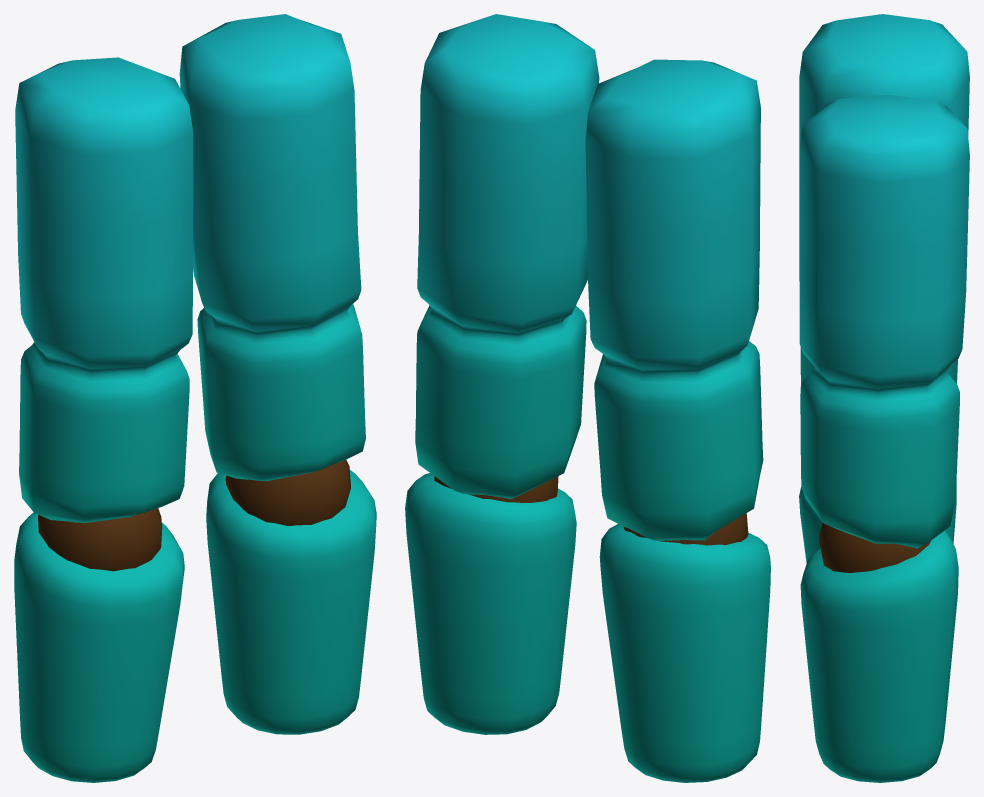
File: BigEye_Legs_Test_Materials.glb
3 renders of one model, left to right at view 1: azimuth 30°, elevation 25°; view 2: azimuth 150°, elevation 25°; view 3: azimuth 270°, elevation 25°, orthographic. The views are drawn at different scales.
Parts seen in each view (by area): view 1: Original_BigEye_Legs; view 2: Original_BigEye_Legs; view 3: Original_BigEye_Legs.
Part boxes in pixels (x1,y1,x2,y2): Original_BigEye_Legs: (14,14,376,782); Original_BigEye_Legs: (405,14,770,782); Original_BigEye_Legs: (799,14,969,782).
Bounding box in the file's own units: 0.7629 × 1.46 × 0.3508.
Materials: 1 (1 with a texture image).
